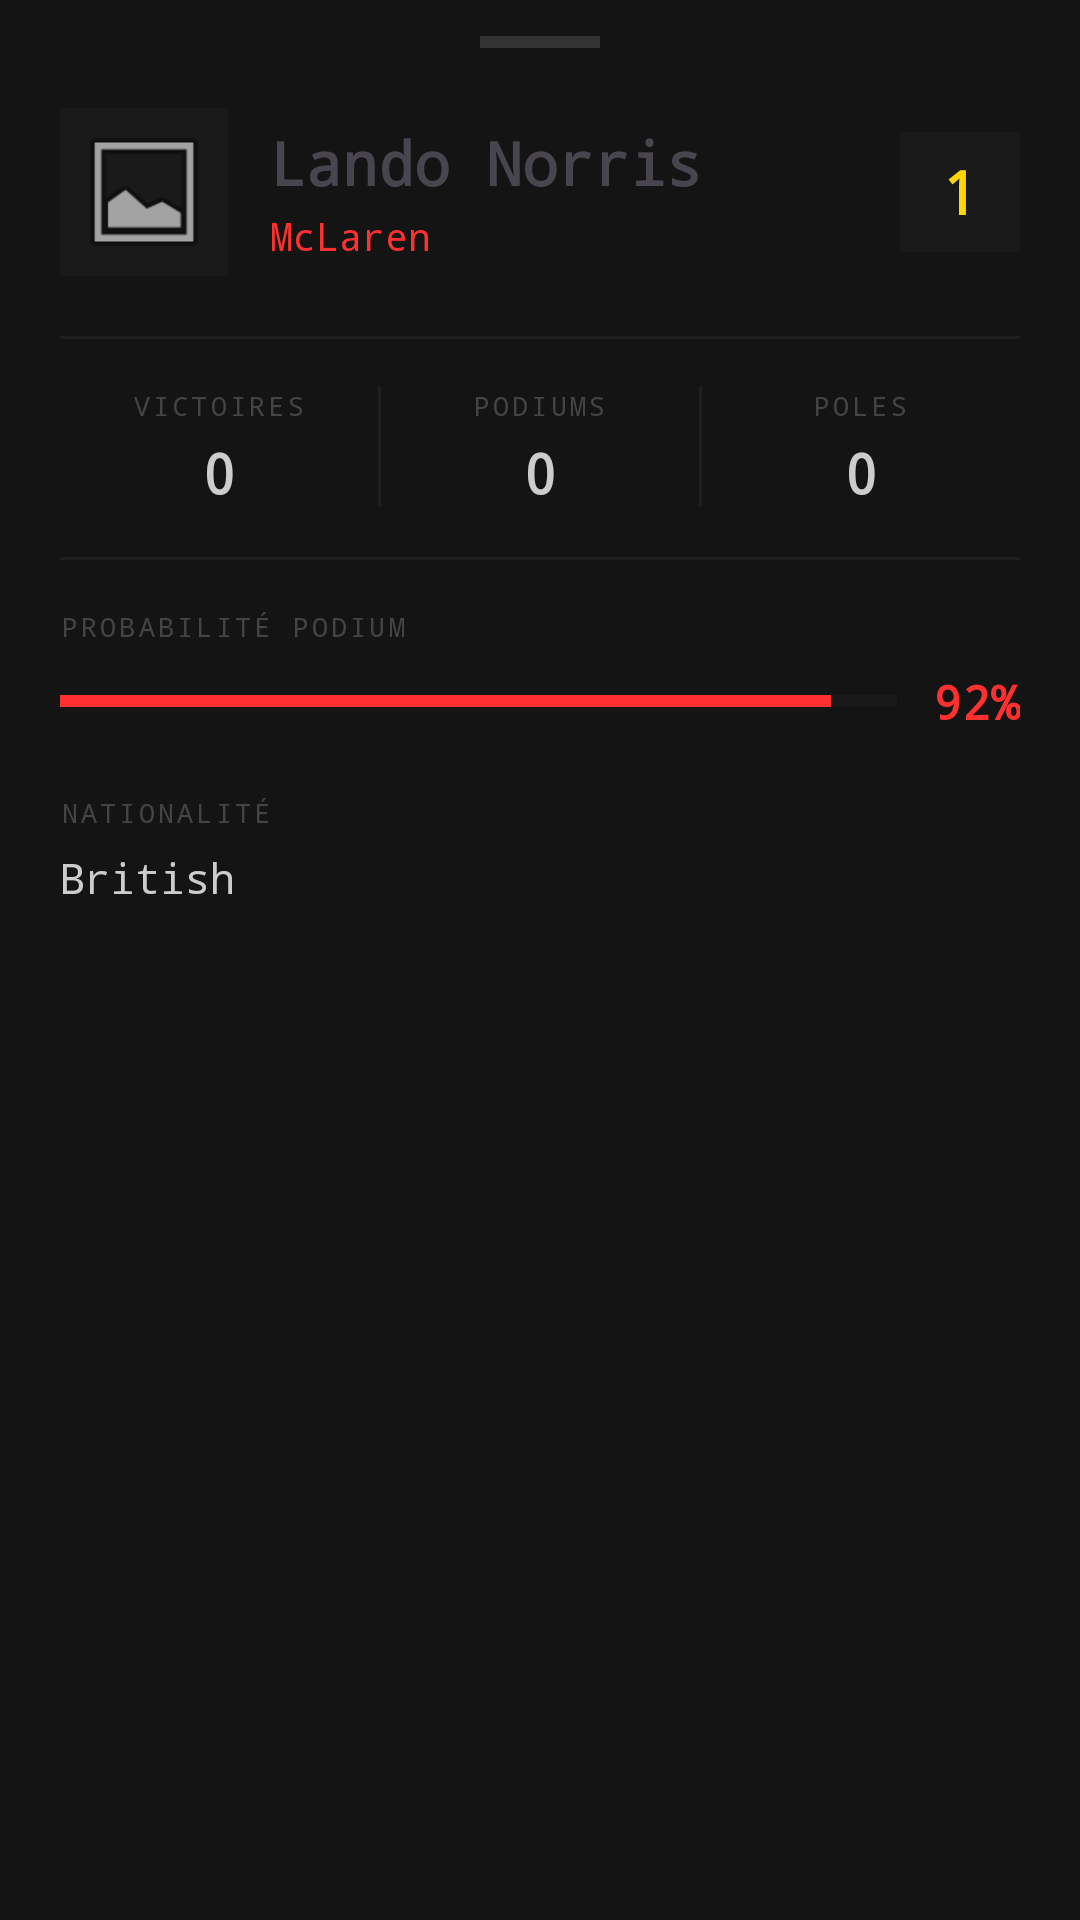

Screen size 1080px x 1920px. Icon name, then its center in pixels as [x,y]:
gallery: [144,192]
